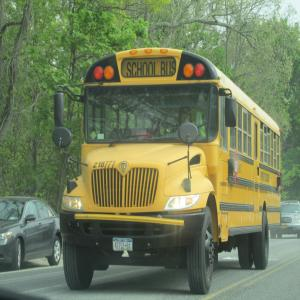Vehicle-registration-plate: (114, 239, 134, 252)
